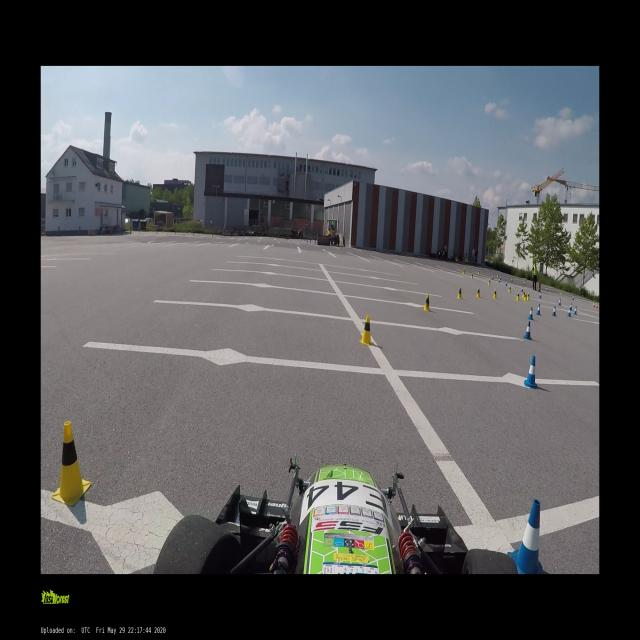blue_cone: (511, 498, 545, 574), (525, 355, 537, 389), (523, 321, 532, 340), (528, 306, 533, 319), (551, 306, 556, 316), (536, 303, 540, 315), (567, 308, 571, 316), (558, 298, 561, 306), (522, 292, 526, 298), (504, 281, 508, 286), (574, 306, 576, 315), (570, 302, 572, 310), (522, 281, 526, 285), (499, 275, 502, 280), (510, 277, 513, 282), (498, 278, 501, 283), (521, 285, 523, 292), (539, 292, 541, 298), (572, 295, 574, 300), (546, 287, 548, 292), (491, 275, 493, 279)
orange_cone: (596, 302, 598, 308), (594, 300, 595, 307)
yellow_cone: (53, 420, 90, 504), (358, 314, 373, 346), (423, 294, 430, 312), (457, 286, 462, 299), (476, 287, 480, 298), (493, 289, 497, 298), (516, 292, 519, 300), (522, 292, 526, 298), (508, 286, 511, 293), (488, 279, 491, 286), (528, 292, 530, 301), (523, 291, 525, 299), (525, 292, 527, 300), (471, 273, 473, 279), (496, 274, 499, 278), (463, 269, 465, 275), (478, 270, 480, 275), (560, 290, 562, 294), (464, 268, 465, 274)
